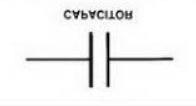Capacitor: (60, 25, 120, 98)
